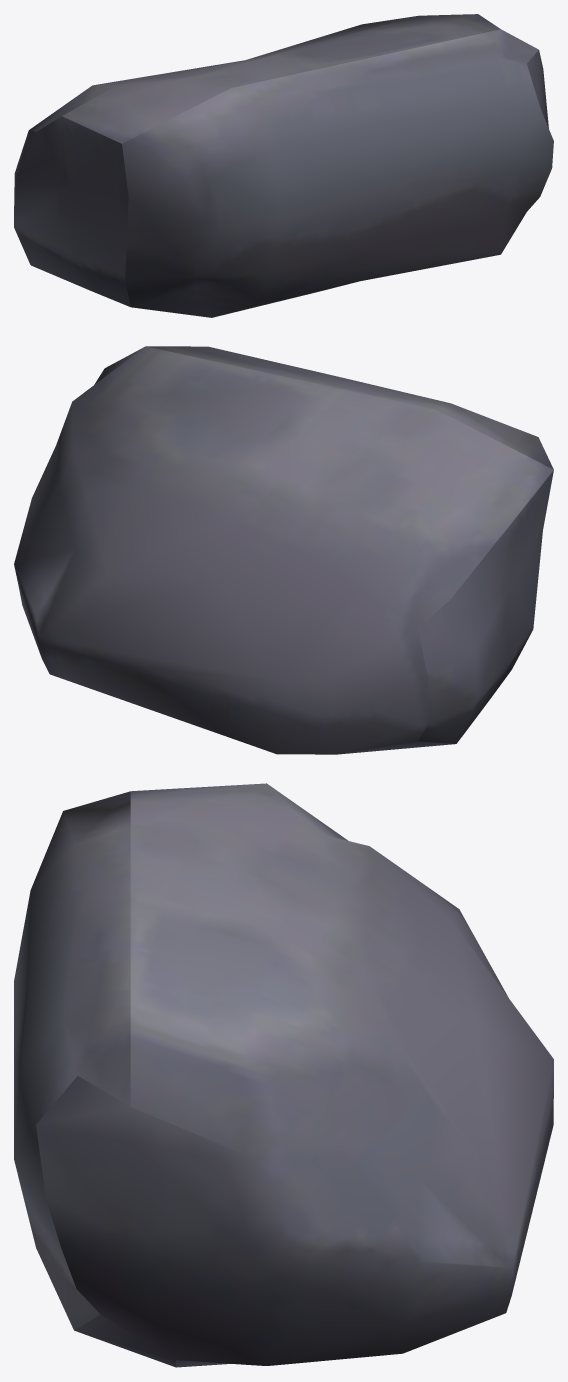
The model's file is DeepForestRock08Textured.fbx.
The picture shows the model from 3 angles, top to bottom: view 1: azimuth 30°, elevation 25°; view 2: azimuth 150°, elevation 25°; view 3: azimuth 270°, elevation 25°; orthographic projection. The views are drawn at different scales.
Visible parts, largest first — view 1: ForestRock08; view 2: ForestRock08; view 3: ForestRock08.
Part boxes in pixels (x1=…): ForestRock08: x1=14, y1=14, x2=553, y2=317; ForestRock08: x1=14, y1=346, x2=553, y2=754; ForestRock08: x1=14, y1=783, x2=553, y2=1367.
Size of the model in its own units: 2.55 by 1.31 by 1.78.
Materials: 1 (1 with a texture image).
